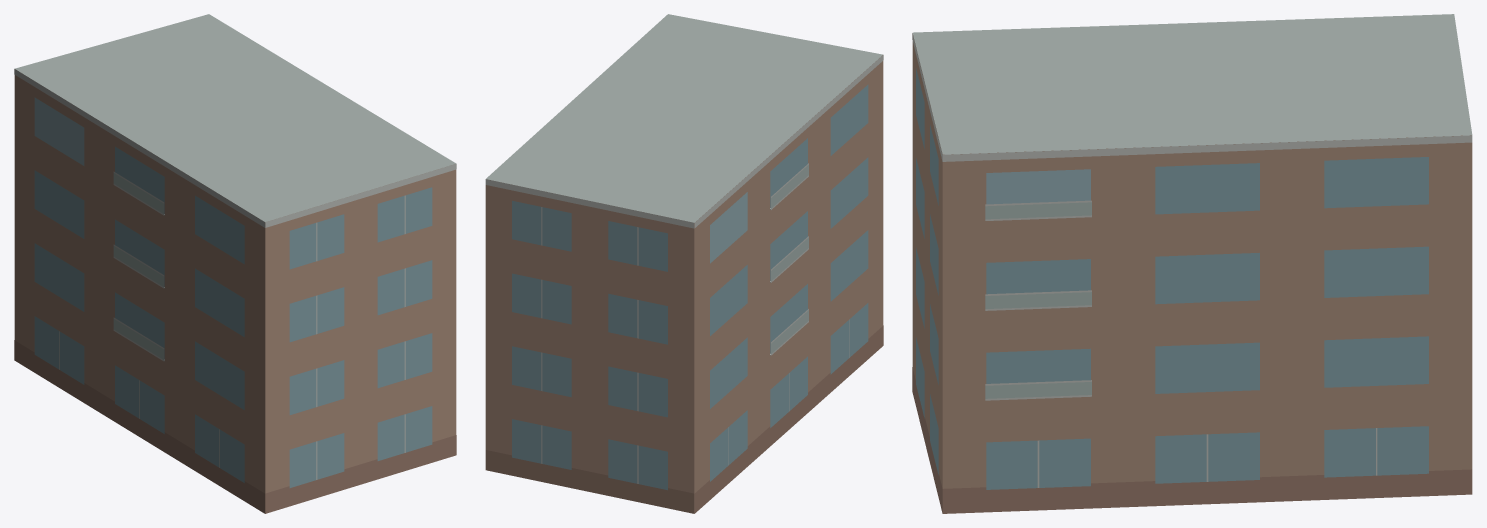
The model's file is survey-upis-32609018.glb.
3 views of the same model, side by side, from view 1: azimuth 30°, elevation 25°; view 2: azimuth 150°, elevation 25°; view 3: azimuth 270°, elevation 25° (orthographic). The views are drawn at different scales.
Visible parts, largest first — view 1: survey-upis-32609018.tmp; view 2: survey-upis-32609018.tmp; view 3: survey-upis-32609018.tmp.
Boxes of the visible parts, box(x1,y1,x2,y2) form: survey-upis-32609018.tmp: box(14, 14, 456, 513); survey-upis-32609018.tmp: box(485, 14, 883, 513); survey-upis-32609018.tmp: box(912, 14, 1472, 513).
Bounding box in the file's own units: 10.27 × 12.2 × 17.25.
